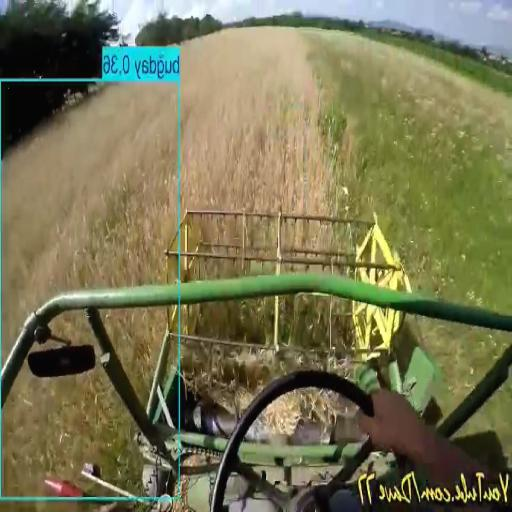bugday: (2, 29, 330, 361), (3, 366, 133, 495), (106, 311, 162, 398)
